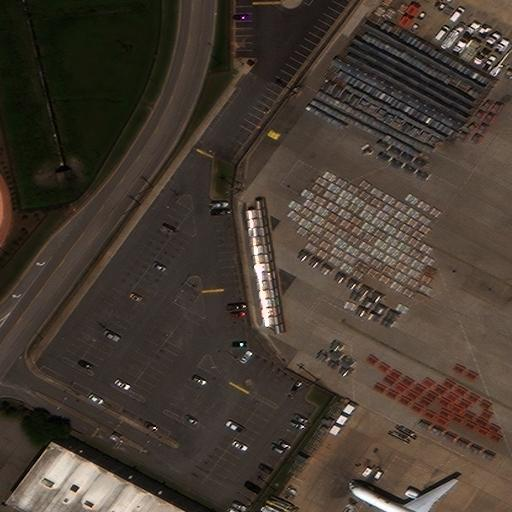Large Civil Transport: (344, 478, 464, 512)
